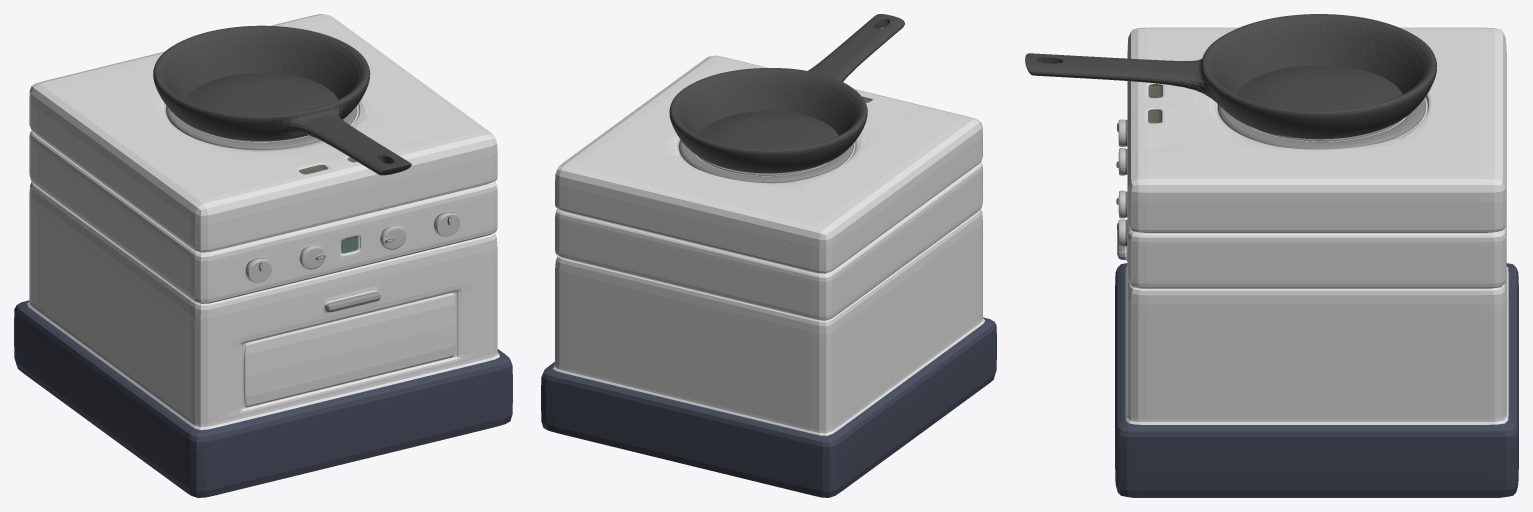
The model's file is Induction_frypan.fbx.
3 renders of one model, left to right at view 1: azimuth 30°, elevation 25°; view 2: azimuth 150°, elevation 25°; view 3: azimuth 270°, elevation 25°, orthographic. The views are drawn at different scales.
Parts seen in each view (by area): view 1: 큐브.052, 원형.032; view 2: 큐브.052, 원형.032; view 3: 큐브.052, 원형.032.
Boxes of the visible parts, x1,y1,x2,y2 form: 큐브.052: (14,14,512,497); 원형.032: (153,25,411,175); 큐브.052: (541,55,996,497); 원형.032: (669,14,904,173); 큐브.052: (1115,27,1518,497); 원형.032: (1025,14,1436,139).
Bounding box in the file's own units: 315 × 306 × 385.
